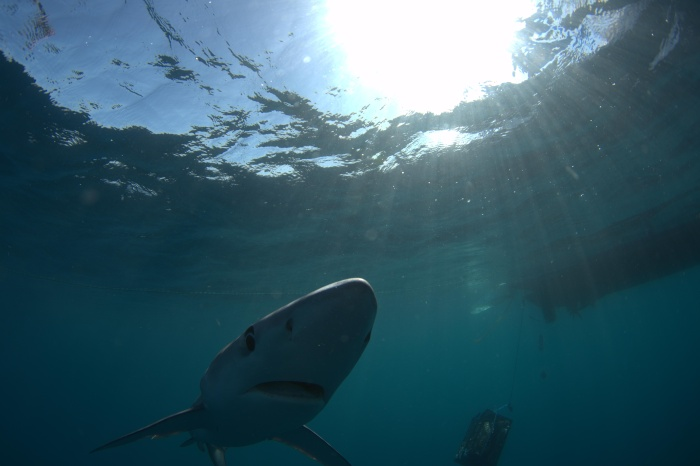Azul: (72, 258, 442, 466)
